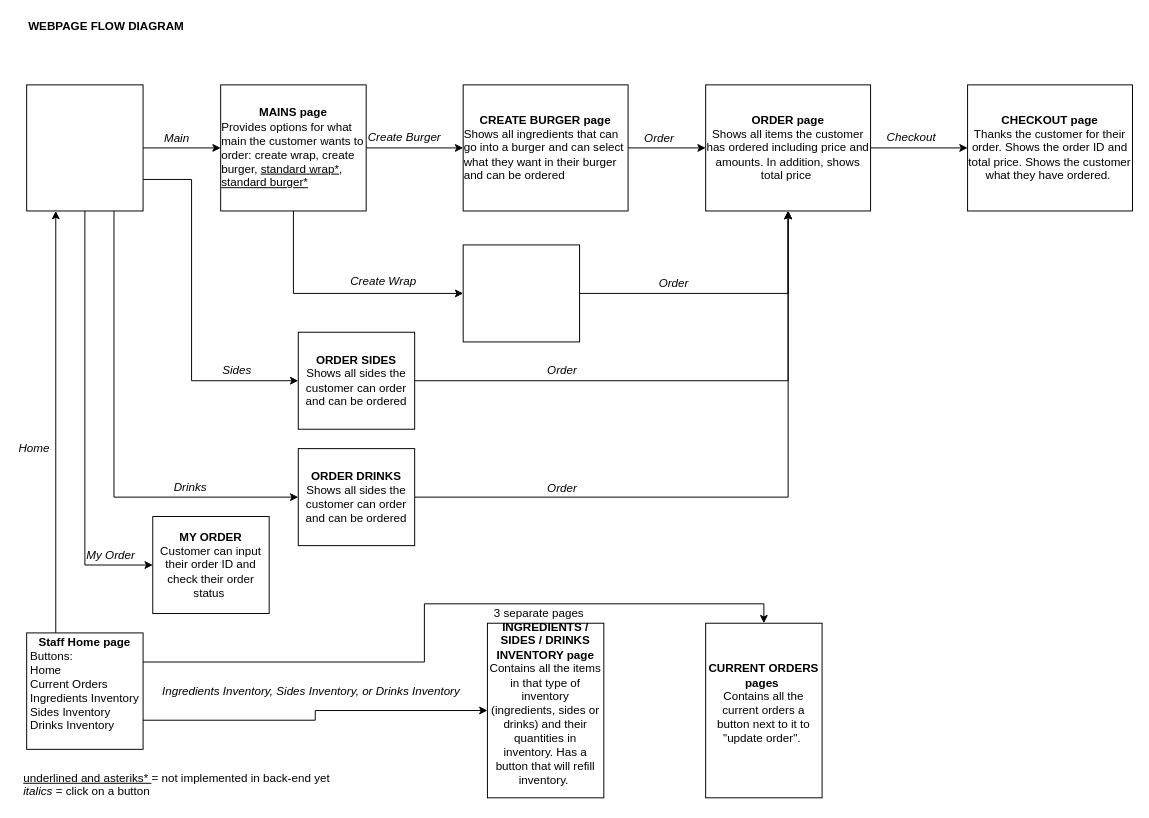
This 1149x818 diagram has some shape labels left out. The shapes that lost their labels are listed below. From the top down, each one's centre as x and y in pixels, then its label:
At [84,147]: "HOME page Buttons: Home Mains Sides Drinks My Order Checkout".
At [521,293]: "CREATE WRAP page Flow of pages is same as creating burger but for wraps".
